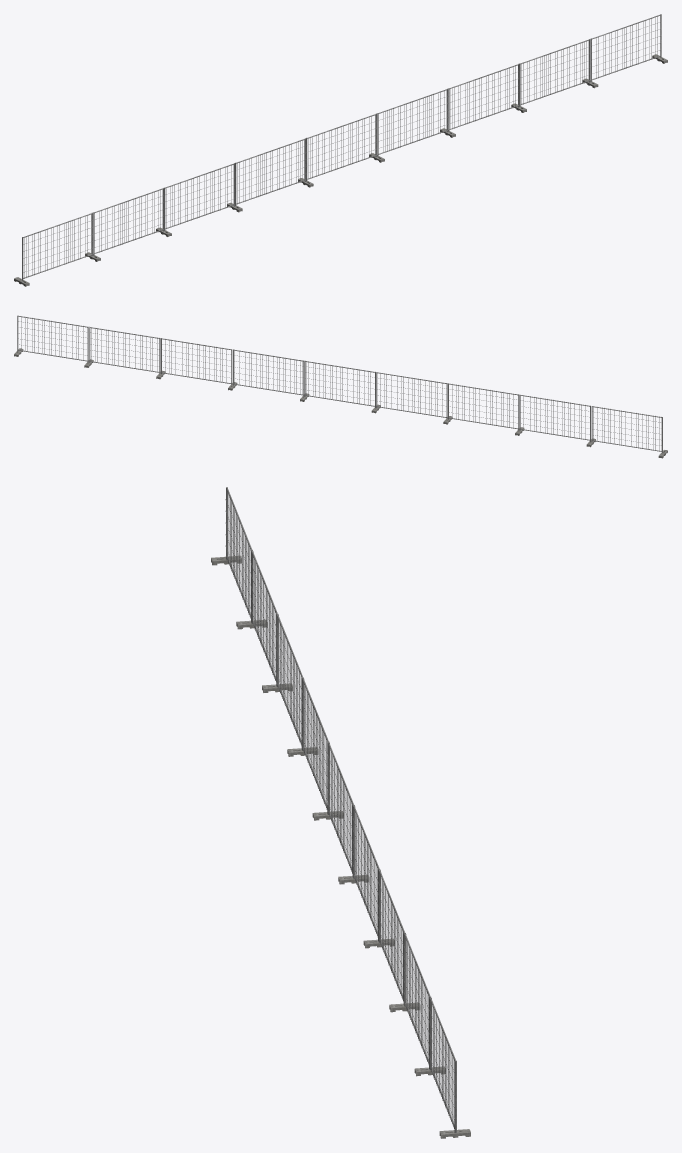
Rendered from westwallN.glb.
The picture shows the model from 3 angles, top to bottom: view 1: azimuth 30°, elevation 25°; view 2: azimuth 150°, elevation 25°; view 3: azimuth 270°, elevation 25°; orthographic projection. The views are drawn at different scales.
Parts seen in each view (by area): view 1: FenceNewB01_FencesNewShader_0.008; view 2: FenceNewB01_FencesNewShader_0.008; view 3: FenceNewB01_FencesNewShader_0.008.
Boxes of the visible parts, bbox=[...] form: FenceNewB01_FencesNewShader_0.008: bbox=[14, 14, 667, 286]; FenceNewB01_FencesNewShader_0.008: bbox=[14, 315, 667, 458]; FenceNewB01_FencesNewShader_0.008: bbox=[211, 487, 470, 1138].
Bounding box in the file's own units: 35.72 × 2.18 × 6.78.
1 material, 1 textured.
